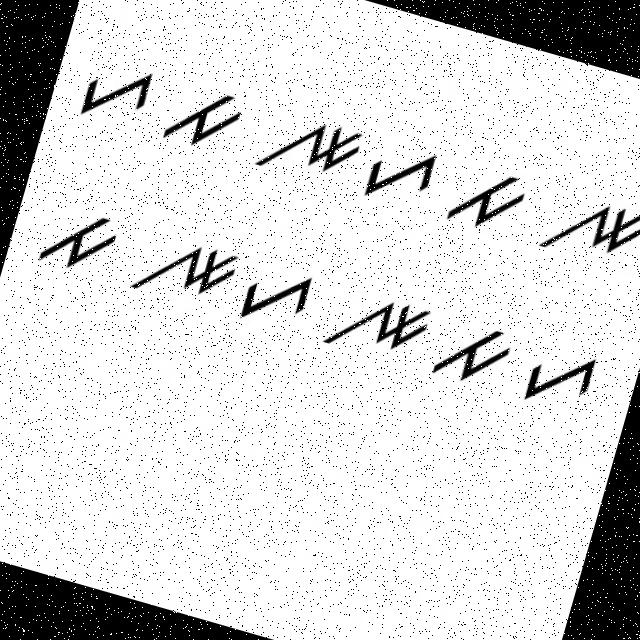ha: (62, 40, 169, 154), (508, 331, 604, 426), (230, 242, 323, 340), (360, 126, 448, 215)
mba: (21, 181, 134, 290), (151, 68, 253, 164), (436, 148, 536, 245), (421, 306, 520, 400)
nda: (312, 270, 439, 379), (123, 212, 245, 322), (246, 96, 372, 202), (529, 181, 639, 289)
